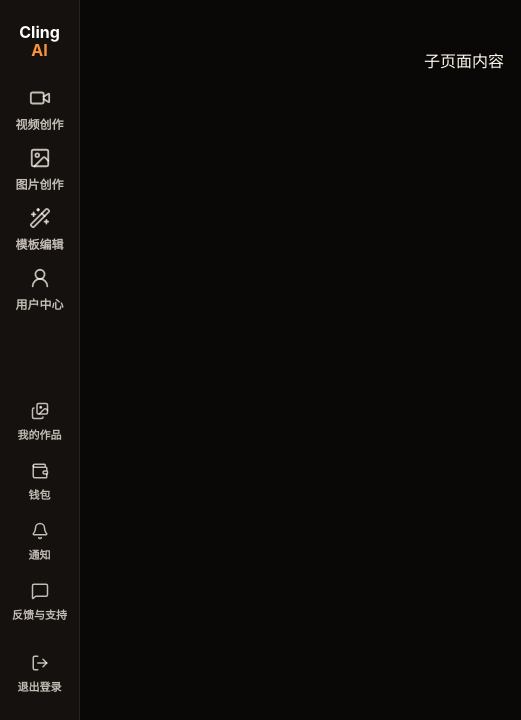
AppShell › 登录会话可在壳内退出，并切换回登录入口
Click the button "退出登录": point(40, 674) [18, 652, 62, 696]
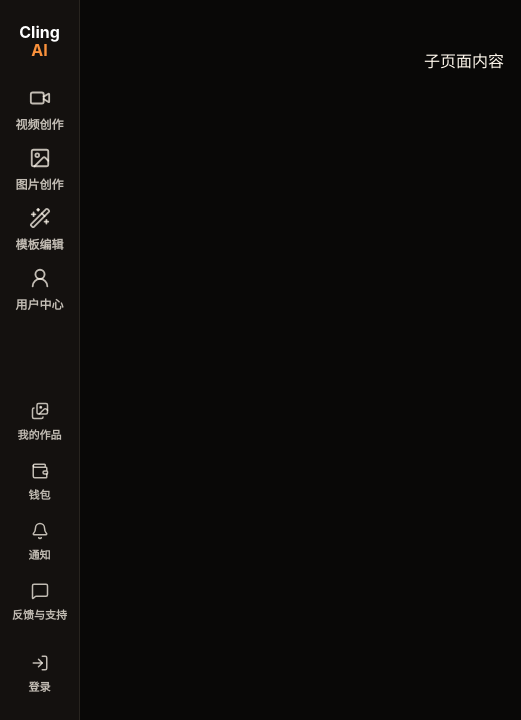
Now the button "退出登录" is gone
